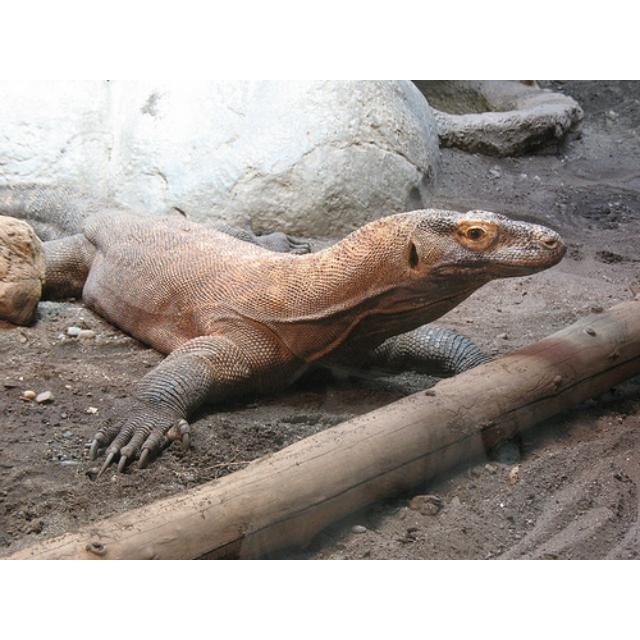KomodoDragon: (0, 179, 564, 472)
